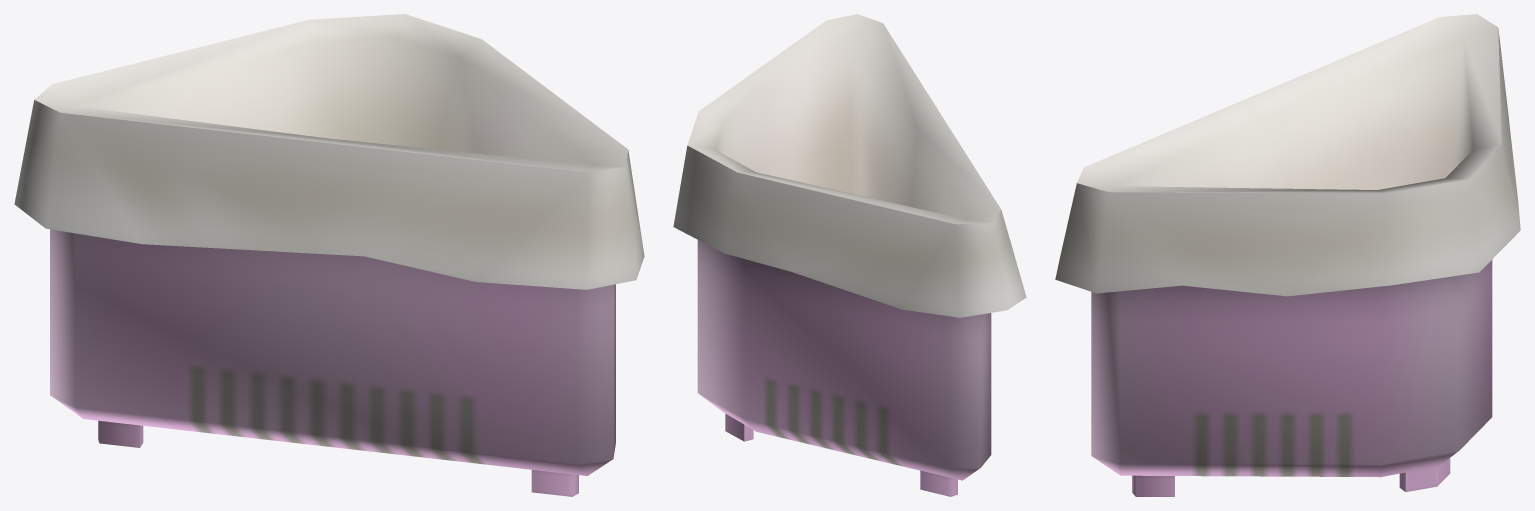
The model's file is KR_Triangular_sink_tidy_01_01.fbx.
3 views of the same model, side by side, from view 1: azimuth 30°, elevation 25°; view 2: azimuth 150°, elevation 25°; view 3: azimuth 270°, elevation 25° (orthographic). The views are drawn at different scales.
Visible parts, largest first — view 1: kr_triangular_sink_tidy_01_01; view 2: kr_triangular_sink_tidy_01_01; view 3: kr_triangular_sink_tidy_01_01.
Boxes of the visible parts, <box> form: kr_triangular_sink_tidy_01_01: <box>14,14,644,496</box>; kr_triangular_sink_tidy_01_01: <box>673,14,1026,496</box>; kr_triangular_sink_tidy_01_01: <box>1055,14,1520,496</box>.
Bounding box in the file's own units: 17.37 × 13.19 × 17.37.
